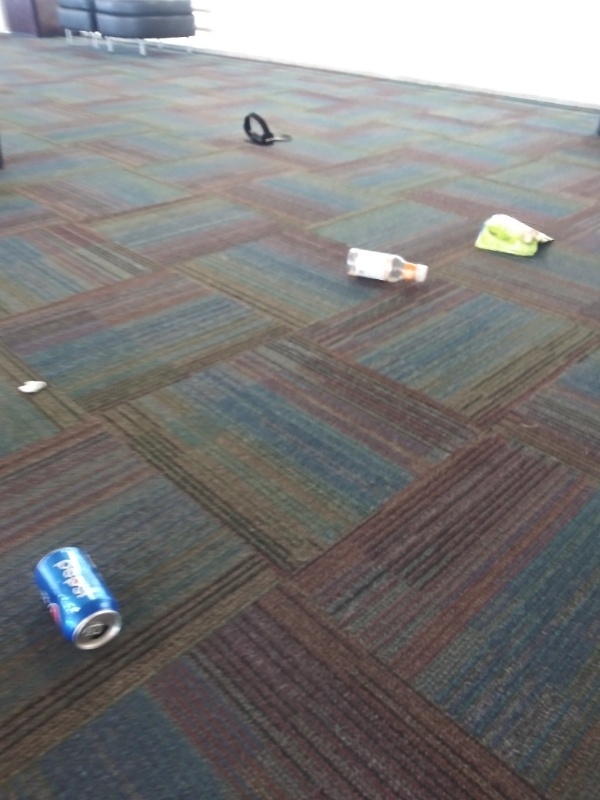bag: (471, 210, 557, 260)
bottle: (343, 242, 429, 292)
can: (30, 542, 124, 653)
